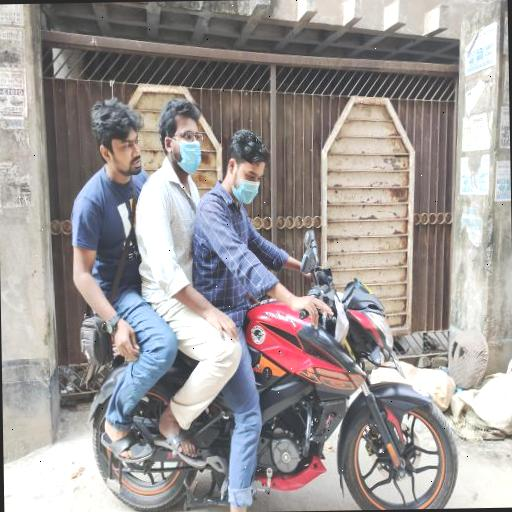no helmet: (216, 93, 318, 271)
triple riding: (51, 46, 462, 512)
